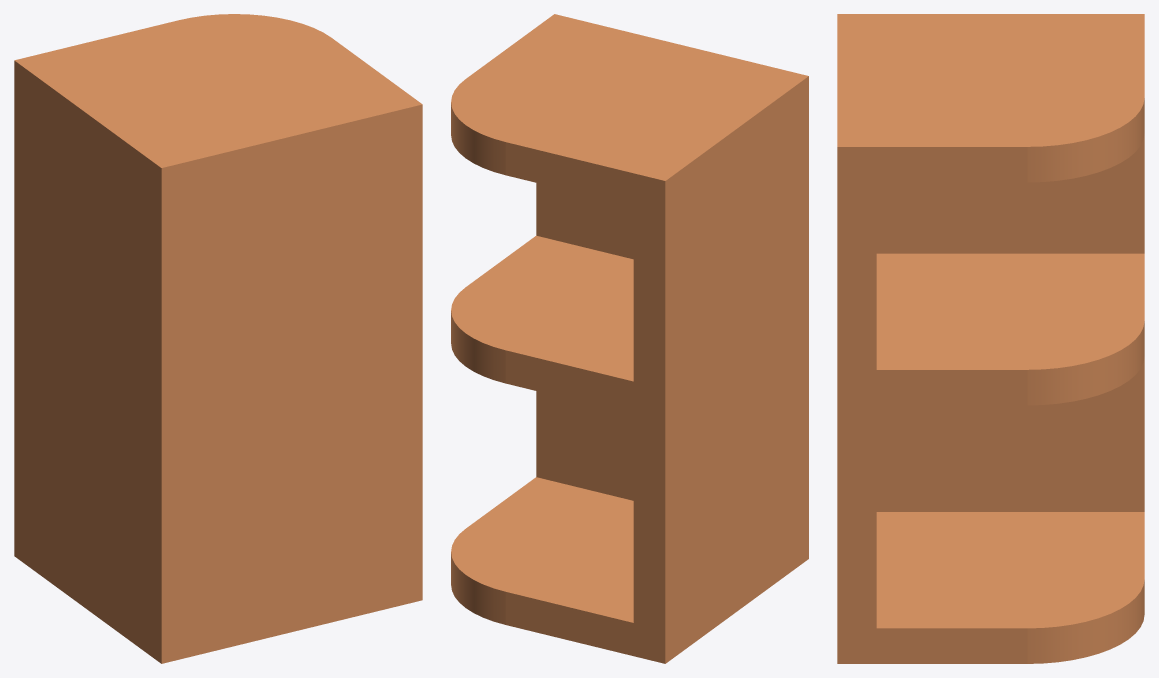
Rendered from kitchen_cabinet_upper_corner.obj.
The picture shows the model from 3 angles, left to right: view 1: azimuth 30°, elevation 25°; view 2: azimuth 150°, elevation 25°; view 3: azimuth 270°, elevation 25°; orthographic projection. The views are drawn at different scales.
Visible parts, largest first — view 1: kitchenCabinetUpperCorner:kitchenCabinetUpperCorner; view 2: kitchenCabinetUpperCorner:kitchenCabinetUpperCorner; view 3: kitchenCabinetUpperCorner:kitchenCabinetUpperCorner.
Part boxes in pixels (<box>): kitchenCabinetUpperCorner:kitchenCabinetUpperCorner: <box>14,14,422,663</box>; kitchenCabinetUpperCorner:kitchenCabinetUpperCorner: <box>451,14,808,663</box>; kitchenCabinetUpperCorner:kitchenCabinetUpperCorner: <box>837,14,1144,663</box>.
Size of the model in its own units: 0.215 by 0.39 by 0.21.
